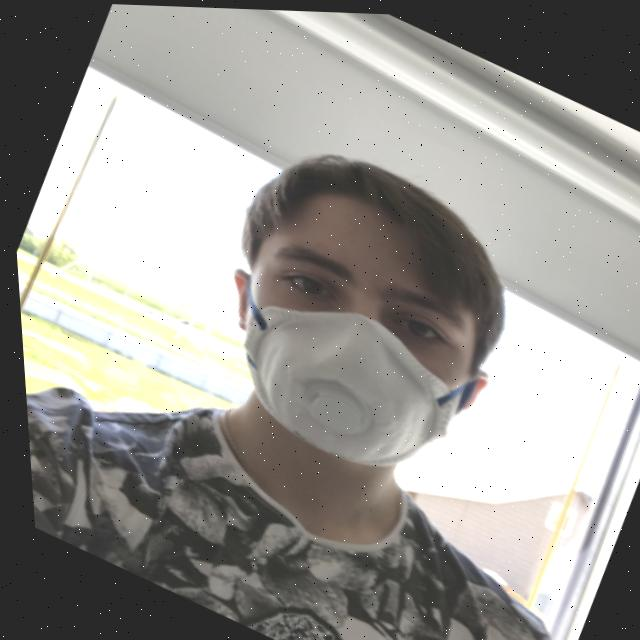Mask: (181, 256, 495, 506)
